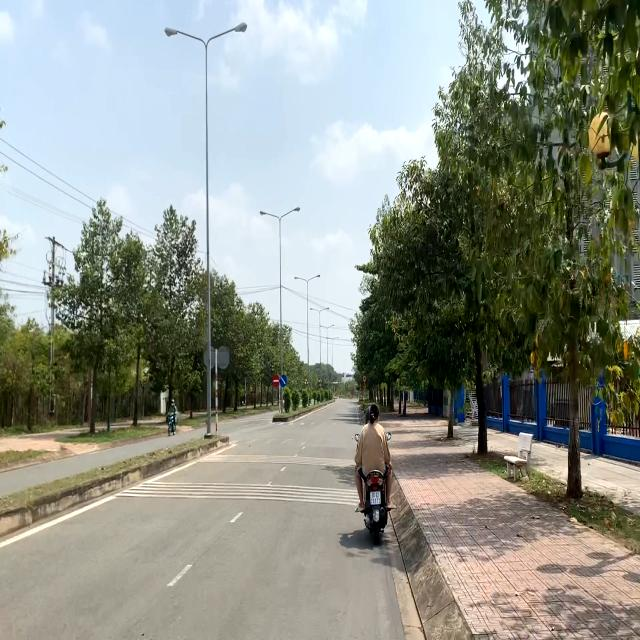P.102: (272, 374, 280, 388)
R.302a: (280, 374, 287, 388)
